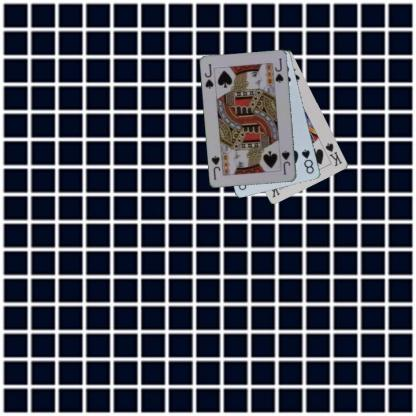8s: (300, 147, 316, 175)
Js: (279, 148, 292, 176), (202, 62, 215, 90)
Ks: (323, 140, 344, 168)
